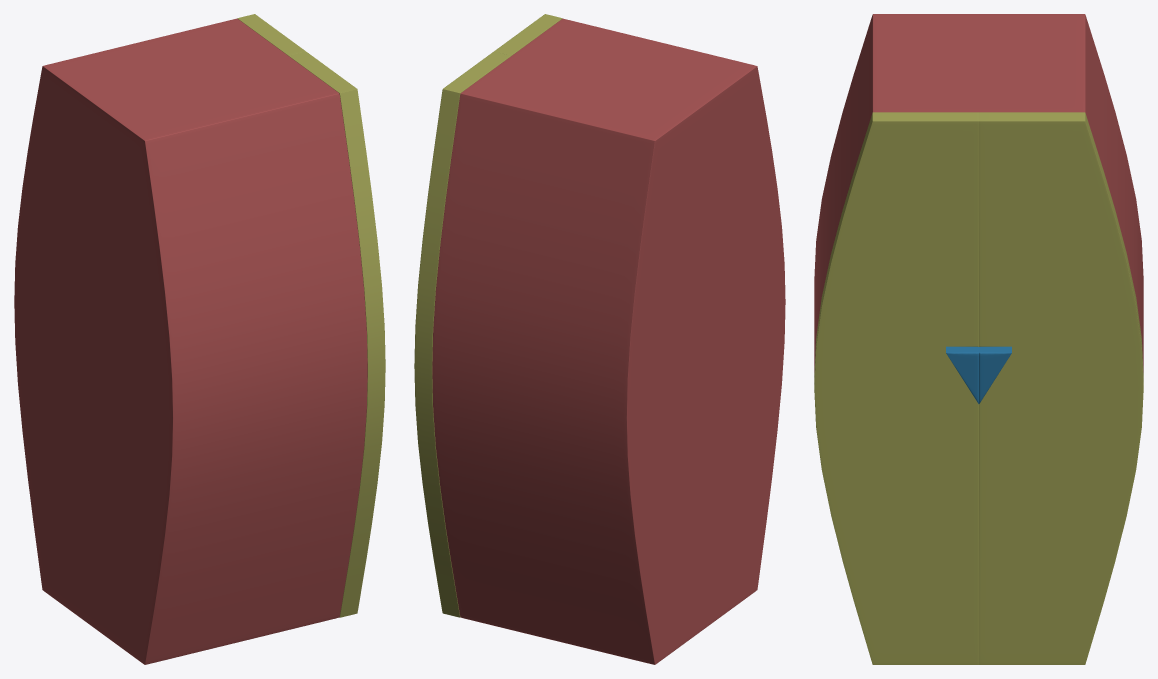
File: Kühlschrank_2_high.fbx
3 views of the same model, side by side, from view 1: azimuth 30°, elevation 25°; view 2: azimuth 150°, elevation 25°; view 3: azimuth 270°, elevation 25° (orthographic). The views are drawn at different scales.
Visible parts, largest first — view 1: Kühlschrank_2_high; view 2: Kühlschrank_2_high; view 3: Kühlschrank_2_high.
Part boxes in pixels (x1=…): Kühlschrank_2_high: x1=14, y1=14, x2=385, y2=664; Kühlschrank_2_high: x1=414, y1=14, x2=785, y2=664; Kühlschrank_2_high: x1=814, y1=14, x2=1143, y2=664.
Bounding box in the file's own units: 0.8131 × 1.8 × 0.9888.
